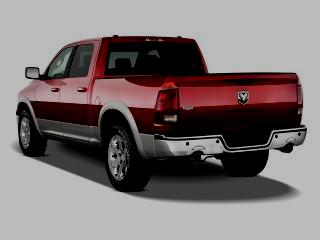ram: (233, 89, 254, 106)
